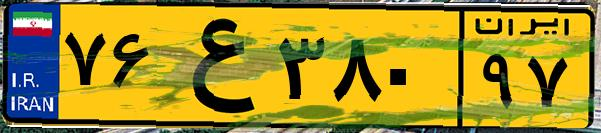0: (385, 28, 445, 110)
3: (270, 28, 330, 110)
6: (110, 28, 158, 98)
7: (57, 26, 110, 100), (525, 38, 570, 115)
8: (330, 28, 385, 110)
9: (475, 38, 525, 113)
ع: (158, 12, 270, 120)
